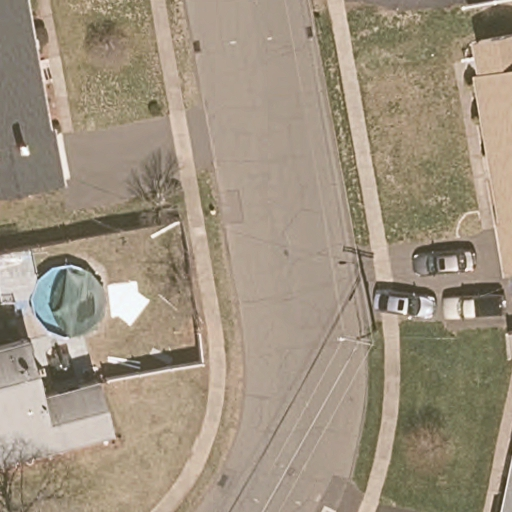DT: (335, 333, 374, 348)
